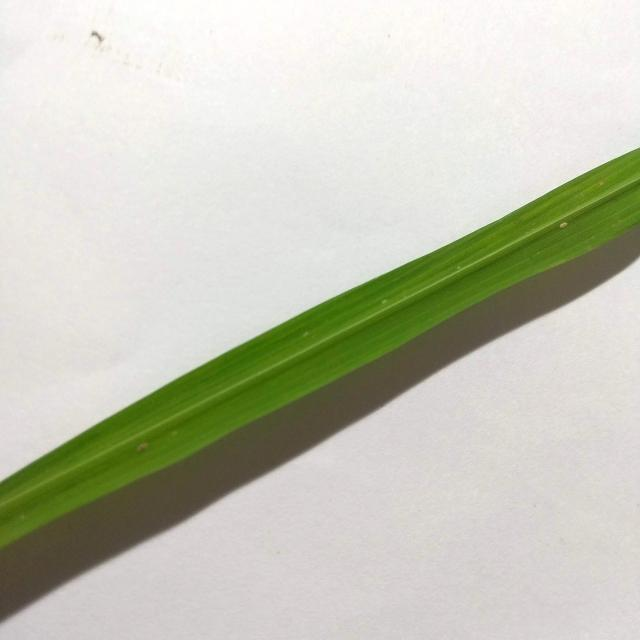Rice_Healthy: (0, 149, 640, 547)
